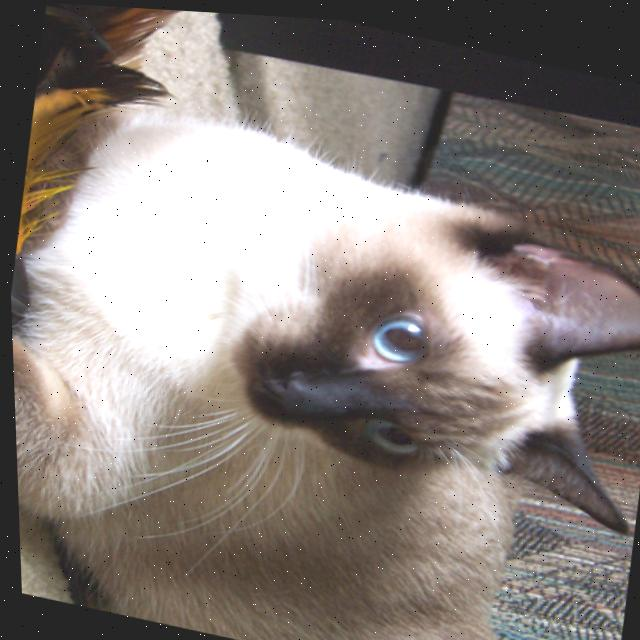Siamese: (2, 69, 640, 640)
